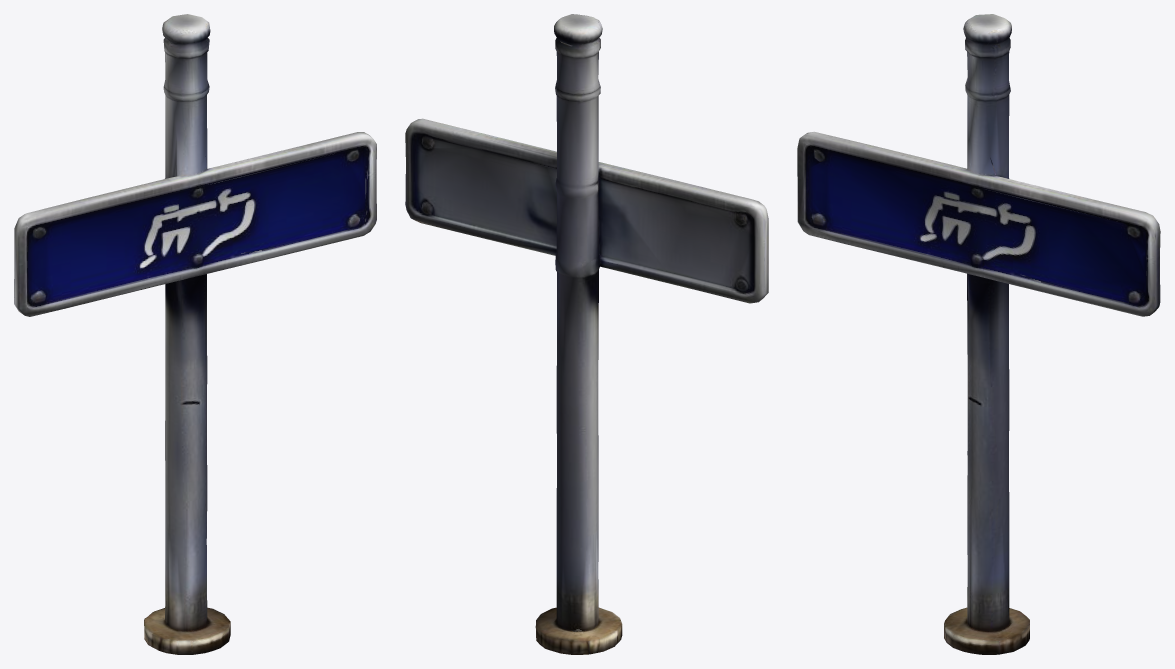
The model's file is street_sign.glb.
3 views of the same model, side by side, from view 1: azimuth 30°, elevation 25°; view 2: azimuth 150°, elevation 25°; view 3: azimuth 330°, elevation 25° (orthographic).
Visible parts, largest first — view 1: street_sign; view 2: street_sign; view 3: street_sign.
Part boxes in pixels (x1,y1,x2,y2): street_sign: [14, 14, 376, 654]; street_sign: [405, 14, 768, 654]; street_sign: [797, 14, 1160, 654].
Bounding box in the file's own units: 1.83 × 3 × 0.3783.
Materials: 1 (1 with a texture image).
